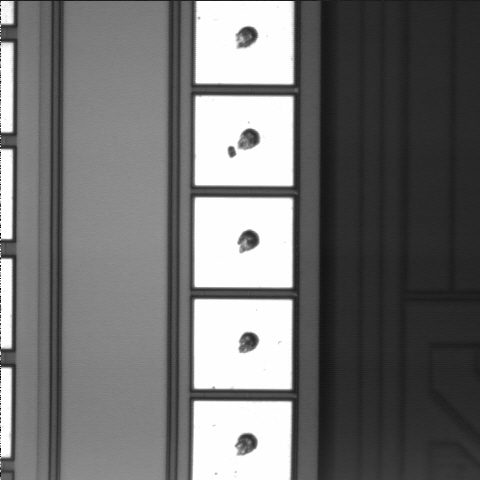pad: (194, 198, 293, 288), (195, 96, 293, 186), (194, 299, 292, 389)
